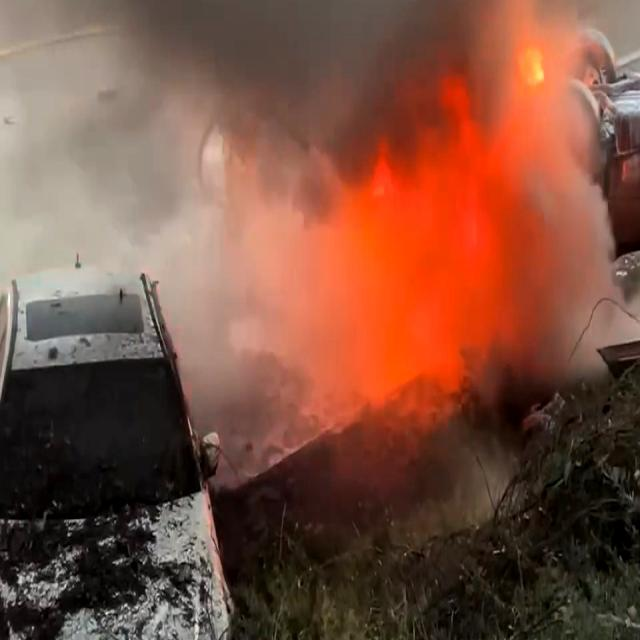fire: (352, 115, 516, 403), (517, 32, 555, 117)
